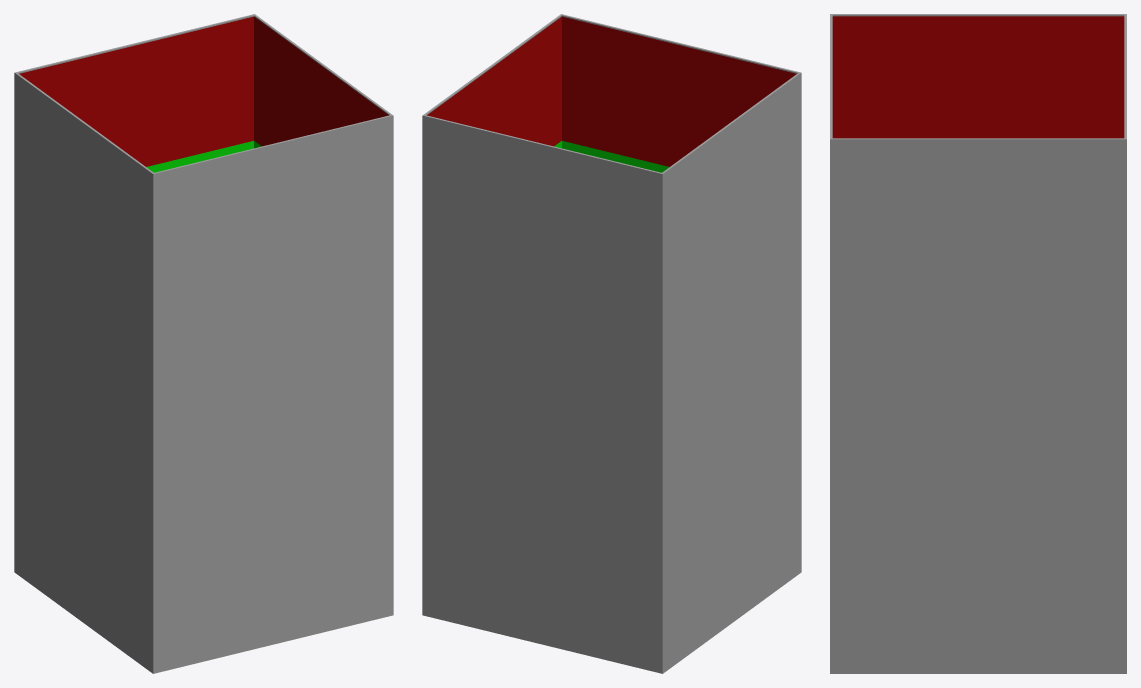
File: Hole_square.fbx
3 views of the same model, side by side, from view 1: azimuth 30°, elevation 25°; view 2: azimuth 150°, elevation 25°; view 3: azimuth 270°, elevation 25° (orthographic). The views are drawn at different scales.
Parts seen in each view (by area): view 1: pCube2, pCube1; view 2: pCube2, pCube1; view 3: pCube2, pCube1.
Part boxes in pixels (bbox=[...]): pCube2: bbox=[14, 14, 393, 673]; pCube1: bbox=[19, 16, 388, 172]; pCube2: bbox=[422, 14, 801, 673]; pCube1: bbox=[427, 16, 796, 172]; pCube2: bbox=[830, 14, 1126, 673]; pCube1: bbox=[832, 16, 1124, 138].
Bounding box in the file's own units: 8.1 × 16.1 × 8.1.
